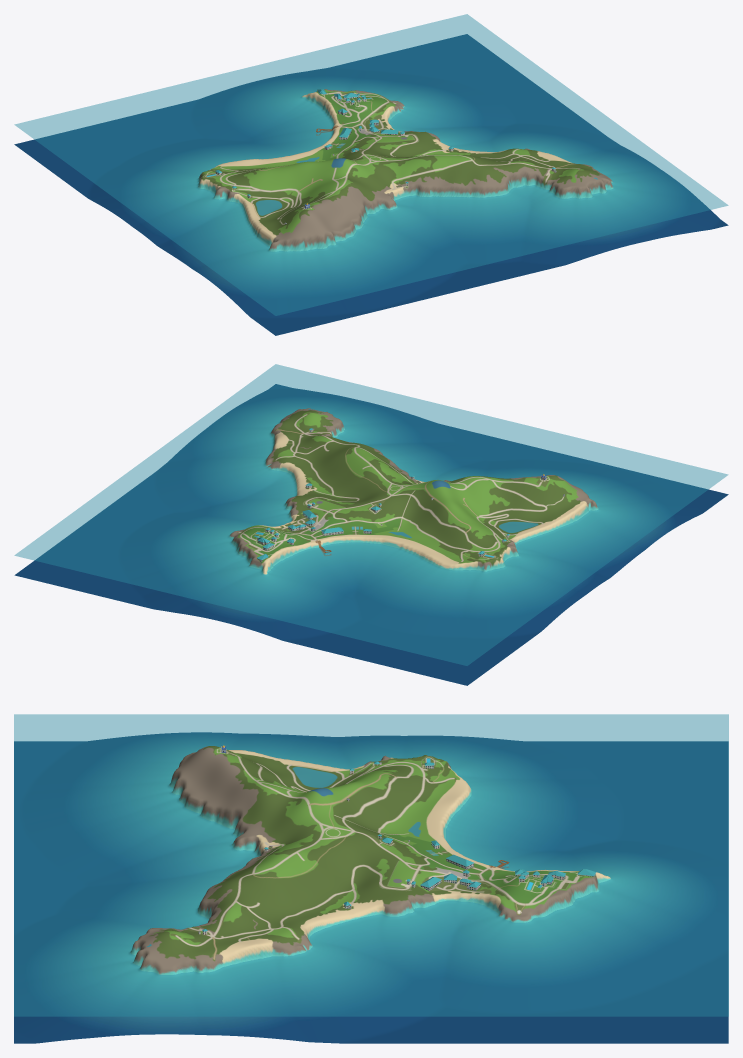
Rendered from little_st_james.glb.
3 renders of one model, top to bottom at view 1: azimuth 30°, elevation 25°; view 2: azimuth 150°, elevation 25°; view 3: azimuth 270°, elevation 25°, orthographic. The views are drawn at different scales.
Parts seen in each view (by area): view 1: Terrain, Water, Buildings; view 2: Terrain, Water, Buildings; view 3: Terrain, Water, Buildings.
Boxes of the visible parts, x1,y1,x2,y2 form: Terrain: (14,34,728,335); Water: (14,14,728,315); Buildings: (215,88,556,224); Terrain: (14,384,728,685); Water: (14,364,728,665); Buildings: (254,428,564,562); Terrain: (14,732,728,1043); Water: (14,714,728,1016); Buildings: (198,761,595,934).
Size of the model in its own units: 1149 by 124 by 1149.
Materials: 15 (1 with a texture image).
